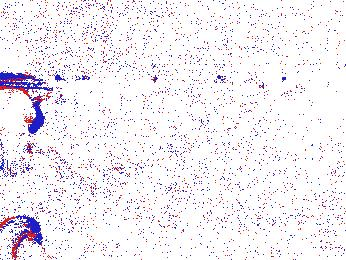flame jellyfish: (1, 82, 44, 178), (181, 195, 234, 244), (1, 215, 52, 260)
